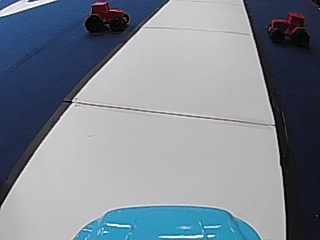tractor: (266, 9, 310, 46), (85, 1, 131, 33)
